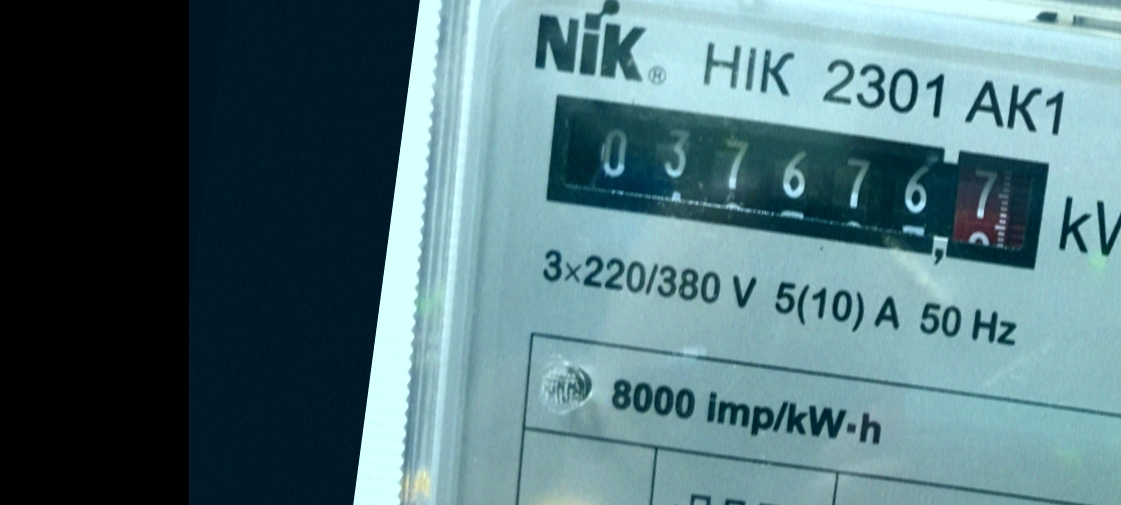0: (598, 120, 639, 179)
3: (661, 120, 696, 180)
6: (779, 141, 818, 199), (902, 157, 938, 215)
7: (839, 151, 878, 213), (718, 131, 756, 192), (969, 162, 1004, 221)
screen: (528, 74, 1071, 288)
